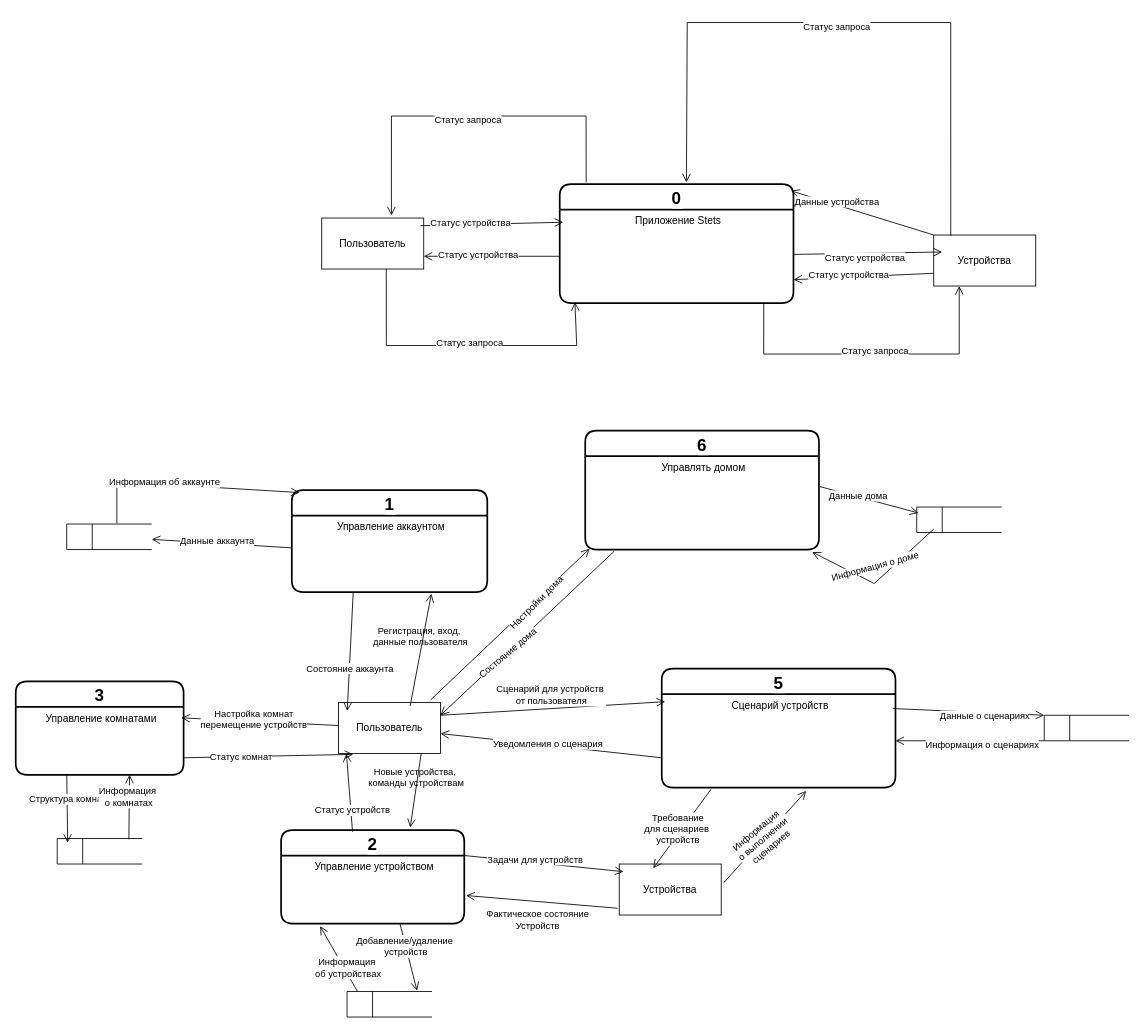
This 1144x1032 diagram has some shape labels left out. The centre of each missing label's shape, as x and y in pixels:
"D1 Аккаунты" belongs at [109,536].
"D2 Устройства" belongs at [389,1004].
"D3 Комнаты" belongs at [99,851].
"D5 Дома" belongs at [959,519].
"D5 Сценарии" belongs at [1086,727].
